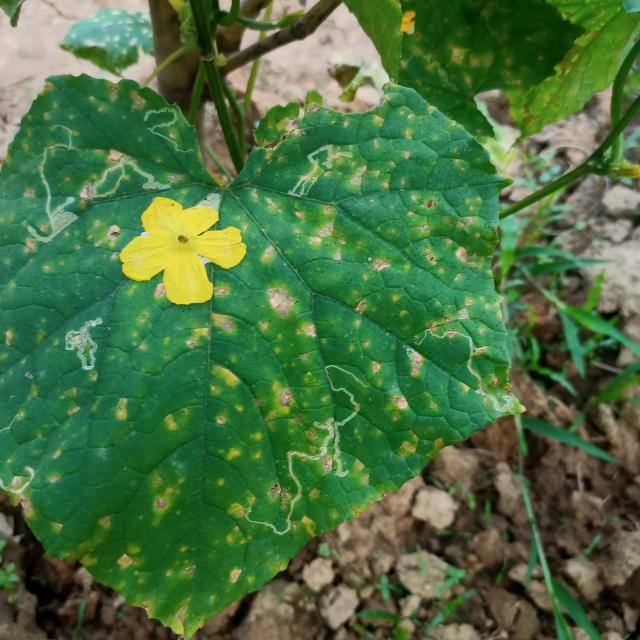disease_cucumber: (5, 96, 493, 628)
